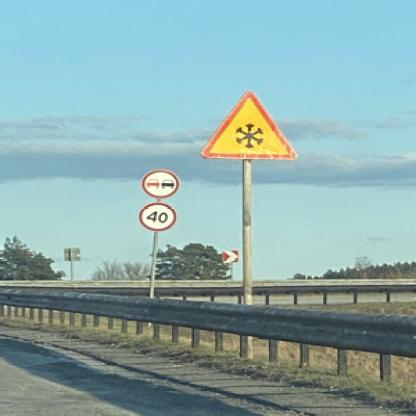Speed Limit 40: (141, 203, 179, 232)
